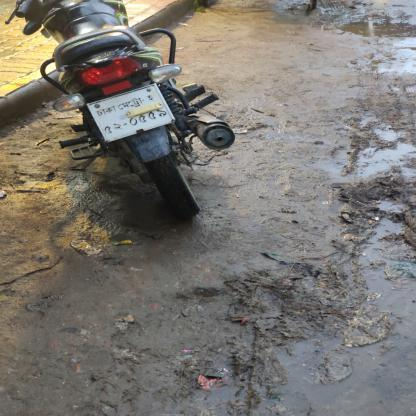license_plate: (77, 77, 181, 146)
